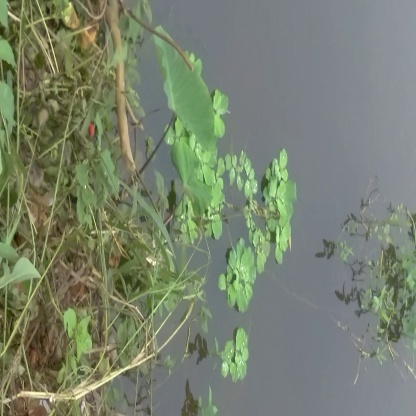leaf: (216, 326, 257, 383)
